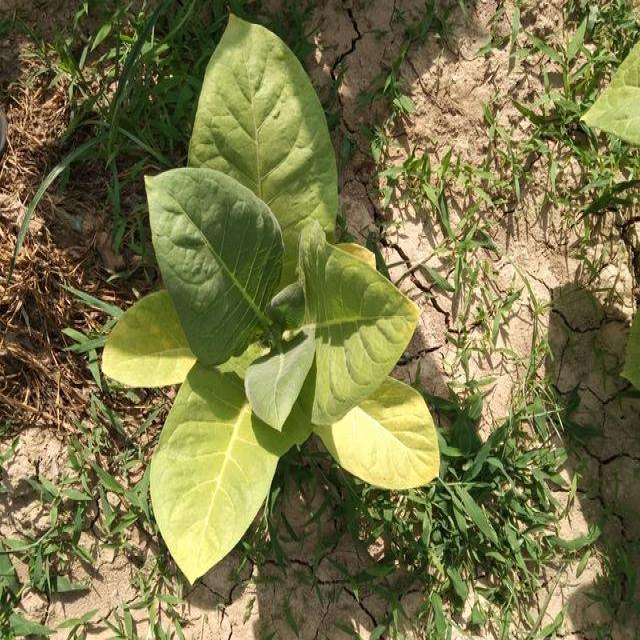crop: (105, 20, 449, 582)
